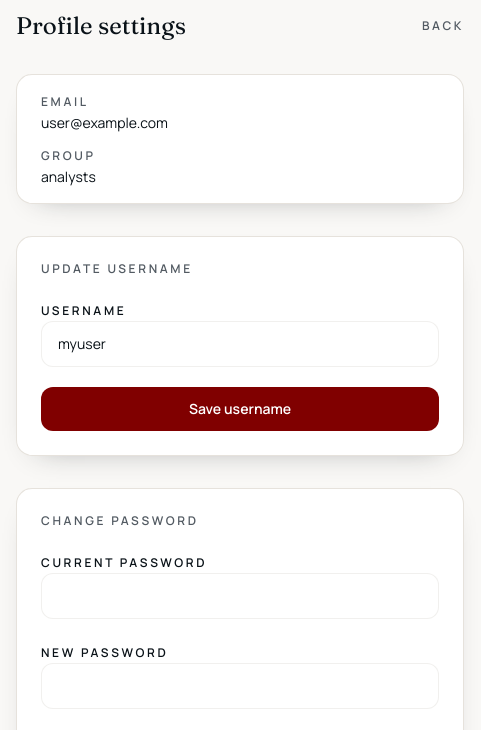
Test: ProfilePage – update username › shows an error when username is empty
The width and height of the screenshot is (481, 730).
Clear the field showing "myuser" at (240, 344), box [41, 321, 439, 367]
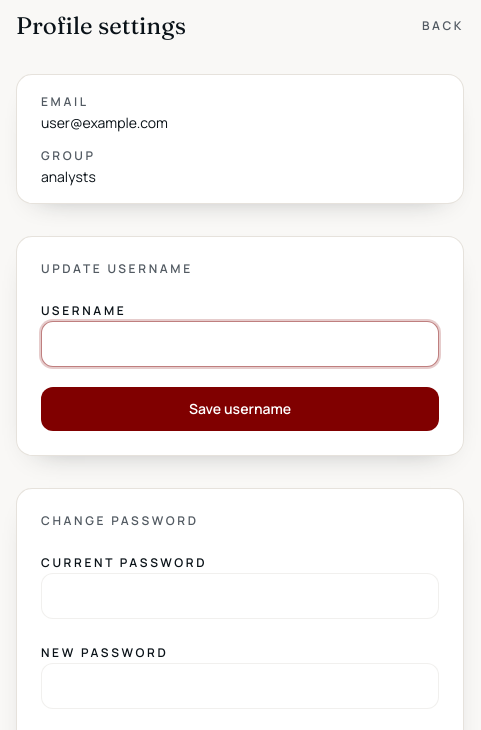
Click the button "Save username" at (240, 409), box [41, 387, 439, 431]
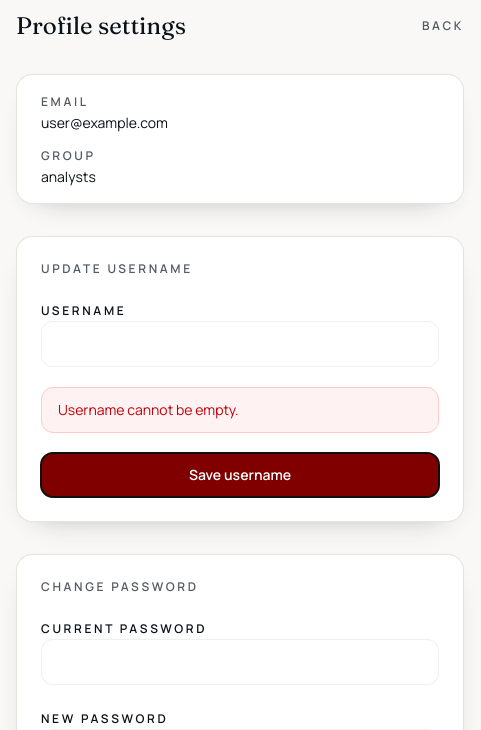
Expected: the text "Username cannot be empty." is shown, [41, 387, 439, 433]
